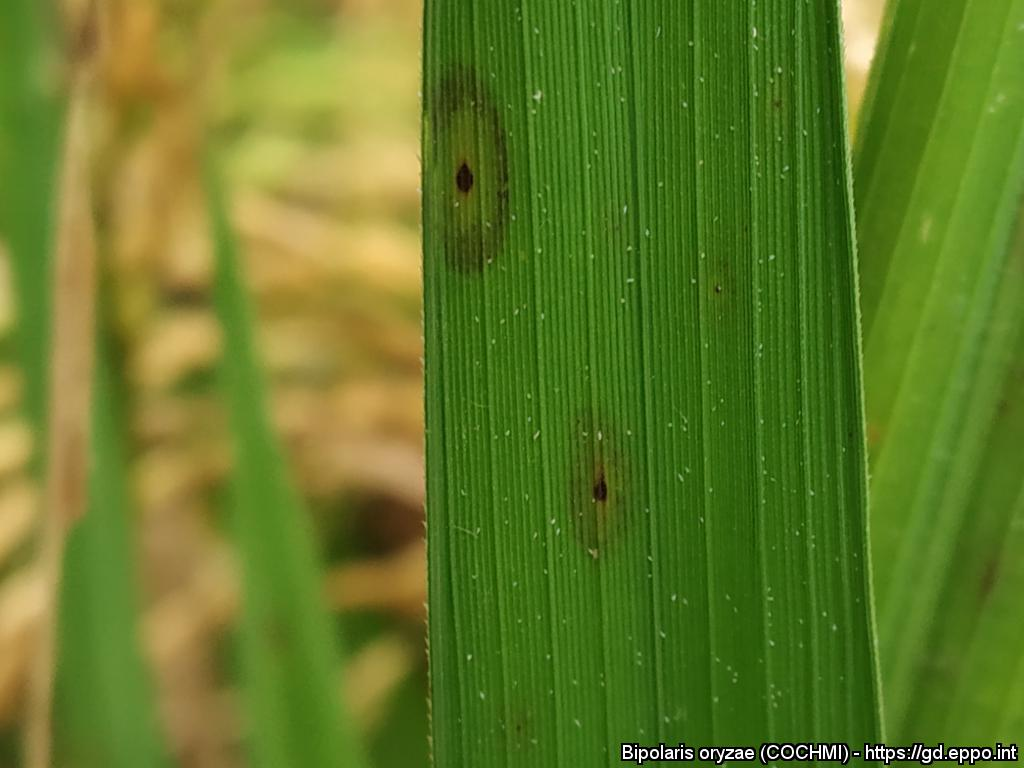Bercak Coklat: (440, 146, 483, 209), (581, 469, 621, 516)
